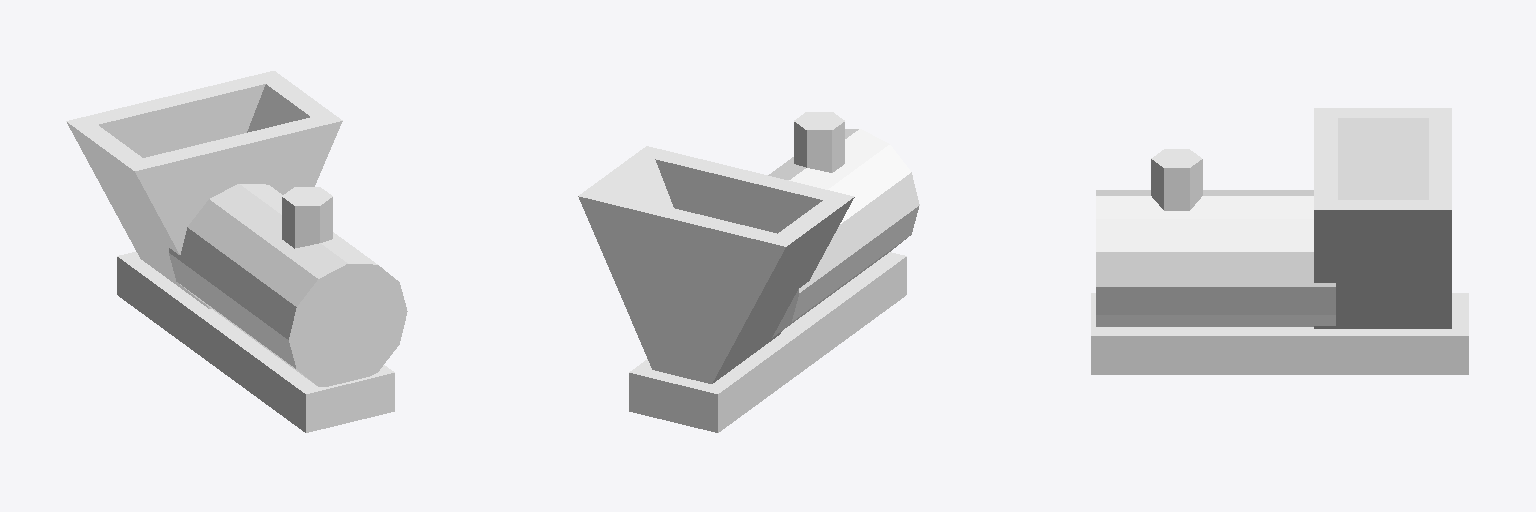
The model's file is steam_small.obj.
3 views of the same model, side by side, from view 1: azimuth 30°, elevation 25°; view 2: azimuth 150°, elevation 25°; view 3: azimuth 270°, elevation 25° (orthographic).
Visible parts, largest first — view 1: Cube_Cube.004; view 2: Cube_Cube.004; view 3: Cube_Cube.004.
Part boxes in pixels (left/top/right/bottom): Cube_Cube.004: left=66, top=71, right=407, bottom=432; Cube_Cube.004: left=578, top=112, right=919, bottom=432; Cube_Cube.004: left=1091, top=108, right=1468, bottom=374.
Size of the model in its own units: 0.7 by 0.625 by 1.1.